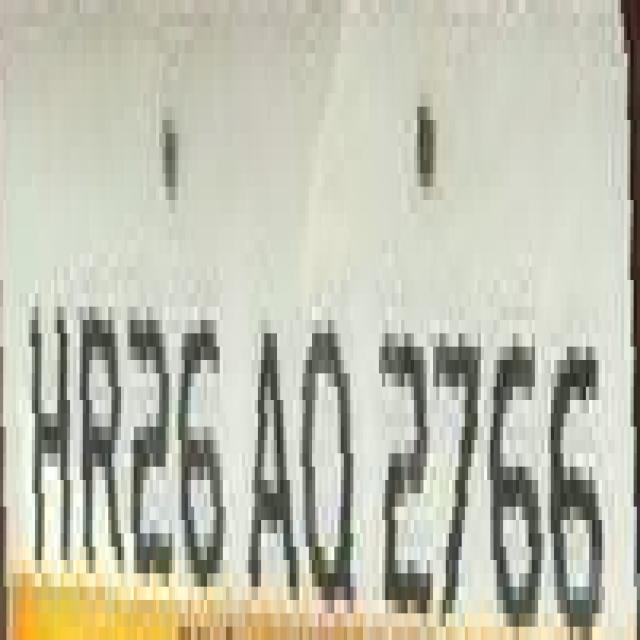plate: (0, 40, 615, 640)
